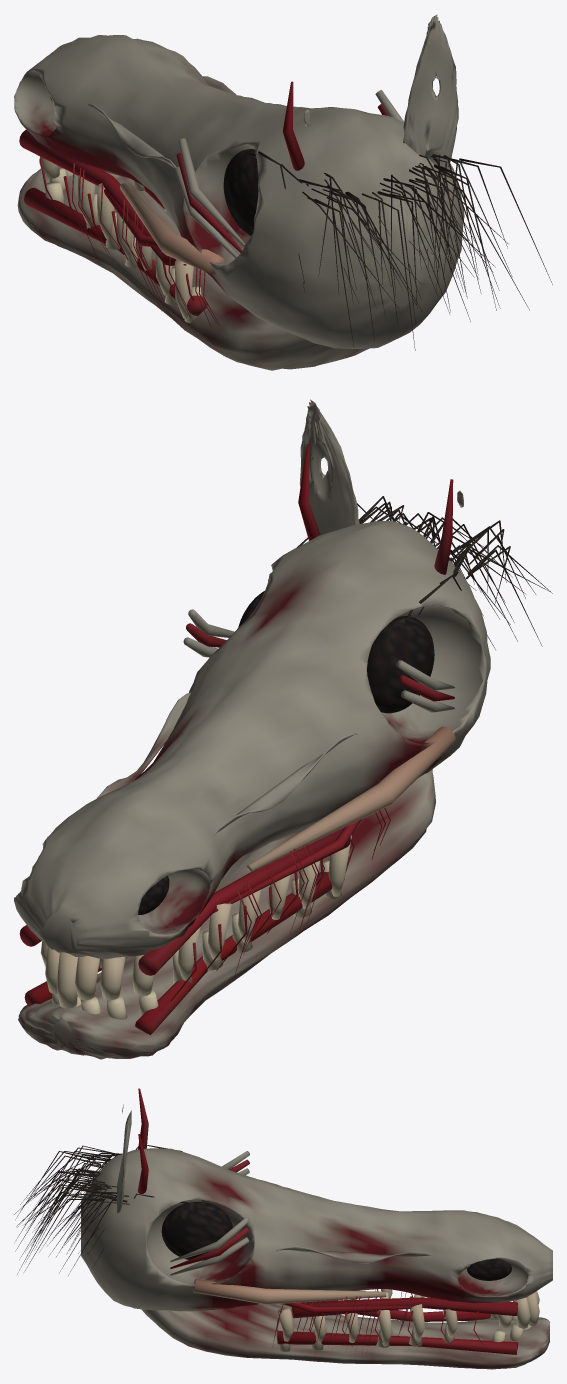
Rendered from bloodied-equine-mask.glb.
The picture shows the model from 3 angles, top to bottom: view 1: azimuth 30°, elevation 25°; view 2: azimuth 150°, elevation 25°; view 3: azimuth 270°, elevation 25°; orthographic projection. The views are drawn at different scales.
Visible parts, largest first — view 1: Mask_Torn_equine_mask_skin, Jaw_Torn_equine_mask_skin, Mask_Matted_black_horse_mane, Mask_Wet_torn_tissue, Mask_Damp_exposed_ivory, Mask_Deep_orbital_darkness, Jaw_Wet_torn_tissue, Jaw_Damp_exposed_ivory; view 2: Mask_Torn_equine_mask_skin, Jaw_Torn_equine_mask_skin, Mask_Damp_exposed_ivory, Mask_Wet_torn_tissue, Mask_Deep_orbital_darkness, Mask_Matted_black_horse_mane, Jaw_Wet_torn_tissue, Jaw_Damp_exposed_ivory; view 3: Mask_Torn_equine_mask_skin, Jaw_Torn_equine_mask_skin, Mask_Damp_exposed_ivory, Mask_Wet_torn_tissue, Mask_Matted_black_horse_mane, Mask_Deep_orbital_darkness, Jaw_Wet_torn_tissue, Jaw_Damp_exposed_ivory.
Part boxes in pixels (bbox=[...]): Mask_Torn_equine_mask_skin: bbox=[14, 14, 464, 348]; Jaw_Torn_equine_mask_skin: bbox=[17, 166, 368, 370]; Mask_Matted_black_horse_mane: bbox=[249, 151, 552, 350]; Mask_Wet_torn_tissue: bbox=[19, 81, 388, 326]; Mask_Damp_exposed_ivory: bbox=[39, 156, 224, 318]; Mask_Deep_orbital_darkness: bbox=[50, 96, 258, 236]; Jaw_Wet_torn_tissue: bbox=[24, 186, 207, 315]; Jaw_Damp_exposed_ivory: bbox=[45, 167, 201, 323]; Mask_Torn_equine_mask_skin: bbox=[14, 399, 490, 959]; Jaw_Torn_equine_mask_skin: bbox=[18, 769, 435, 1059]; Mask_Damp_exposed_ivory: bbox=[40, 726, 455, 1008]; Mask_Wet_torn_tissue: bbox=[19, 444, 454, 1001]; Mask_Deep_orbital_darkness: bbox=[138, 591, 434, 914]; Mask_Matted_black_horse_mane: bbox=[296, 496, 552, 649]; Jaw_Wet_torn_tissue: bbox=[24, 872, 344, 1035]; Jaw_Damp_exposed_ivory: bbox=[52, 860, 341, 1019]; Mask_Torn_equine_mask_skin: bbox=[81, 1104, 552, 1311]; Jaw_Torn_equine_mask_skin: bbox=[141, 1303, 549, 1369]; Mask_Damp_exposed_ivory: bbox=[193, 1279, 539, 1346]; Mask_Wet_torn_tissue: bbox=[137, 1088, 517, 1356]; Mask_Matted_black_horse_mane: bbox=[14, 1145, 190, 1275]; Mask_Deep_orbital_darkness: bbox=[161, 1202, 511, 1280]; Jaw_Wet_torn_tissue: bbox=[277, 1300, 517, 1354]; Jaw_Damp_exposed_ivory: bbox=[279, 1291, 531, 1351].
Size of the model in its own units: 0.596 by 1.02 by 1.8.
